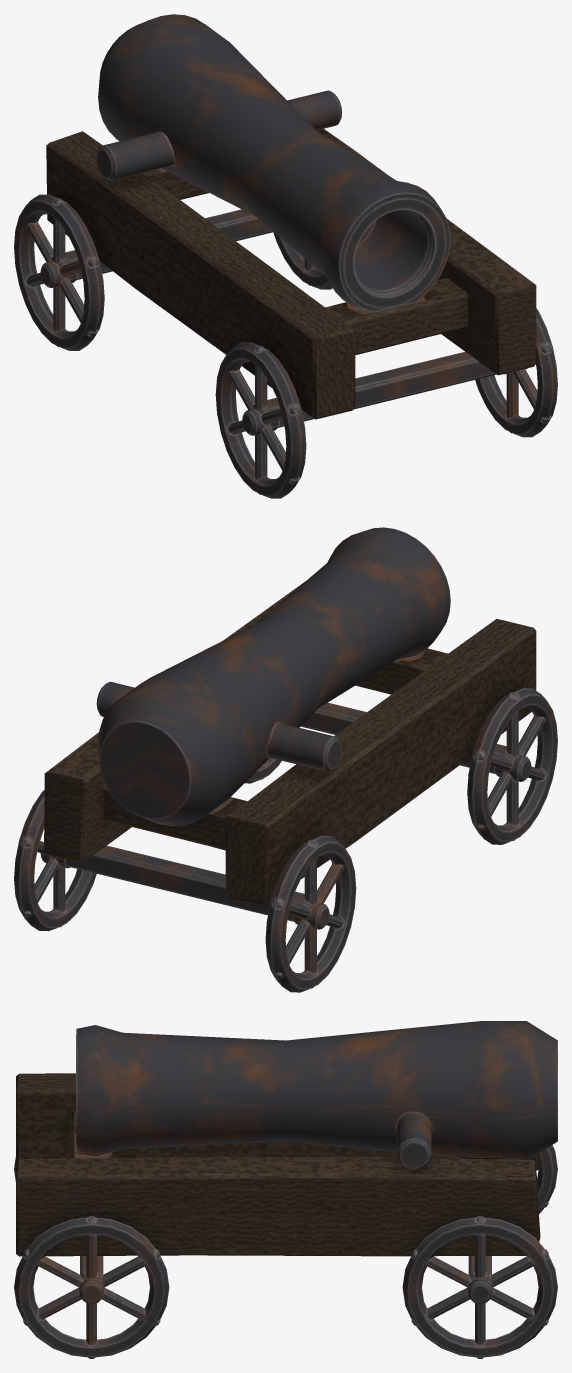
Rendered from cannon.glb.
3 views of the same model, one above another, from view 1: azimuth 30°, elevation 25°; view 2: azimuth 150°, elevation 25°; view 3: azimuth 270°, elevation 25° (orthographic). The views are drawn at different scales.
Visible parts, largest first — view 1: cannon; view 2: cannon; view 3: cannon.
Part boxes in pixels (box(x1,y1,x2,y2)): cannon: box(14, 14, 557, 498); cannon: box(14, 527, 557, 992); cannon: box(14, 1021, 557, 1358).
Bounding box in the file's own units: 0.8 × 0.77 × 1.4.
1 material, 1 textured.
